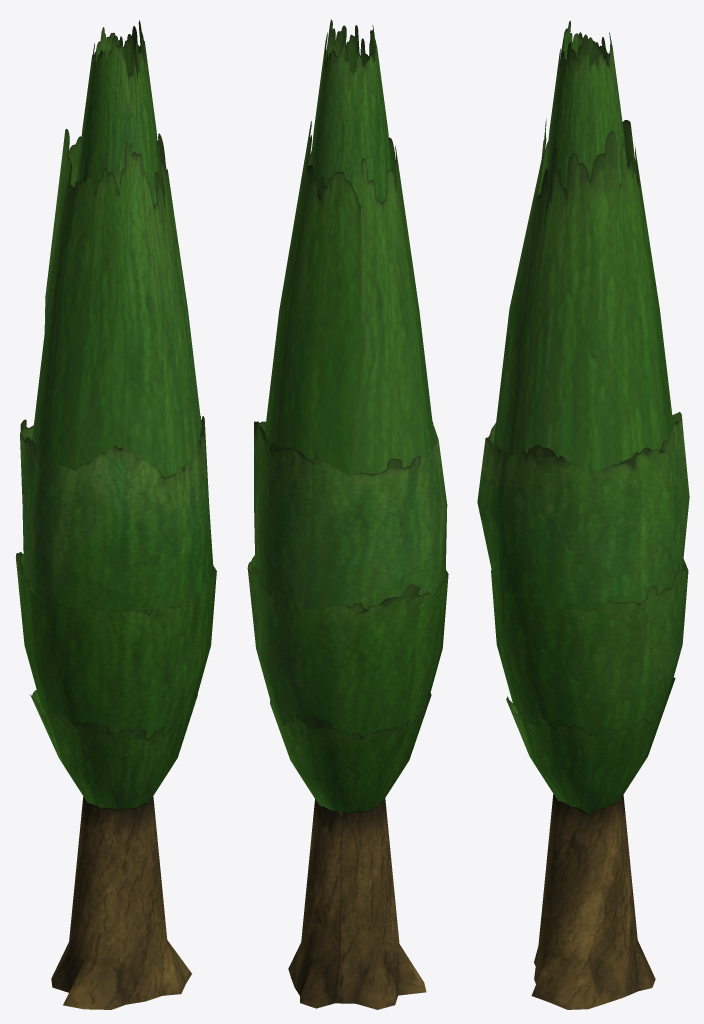
The model's file is TallTree.fbx.
The picture shows the model from 3 angles, left to right: view 1: azimuth 30°, elevation 25°; view 2: azimuth 150°, elevation 25°; view 3: azimuth 270°, elevation 25°; orthographic projection.
Visible parts, largest first — view 1: TallTree_Leaves, TallTree_Trunk; view 2: TallTree_Leaves, TallTree_Trunk; view 3: TallTree_Leaves, TallTree_Trunk.
Part boxes in pixels (box(x1,y1,x2,y2)): TallTree_Leaves: box(15, 20, 216, 810); TallTree_Trunk: box(51, 796, 191, 1009); TallTree_Leaves: box(247, 19, 448, 813); TallTree_Trunk: box(288, 798, 426, 1009); TallTree_Leaves: box(477, 20, 689, 814); TallTree_Trunk: box(531, 794, 655, 1009).
Bounding box in the file's own units: 3.54 × 18.91 × 3.81.
